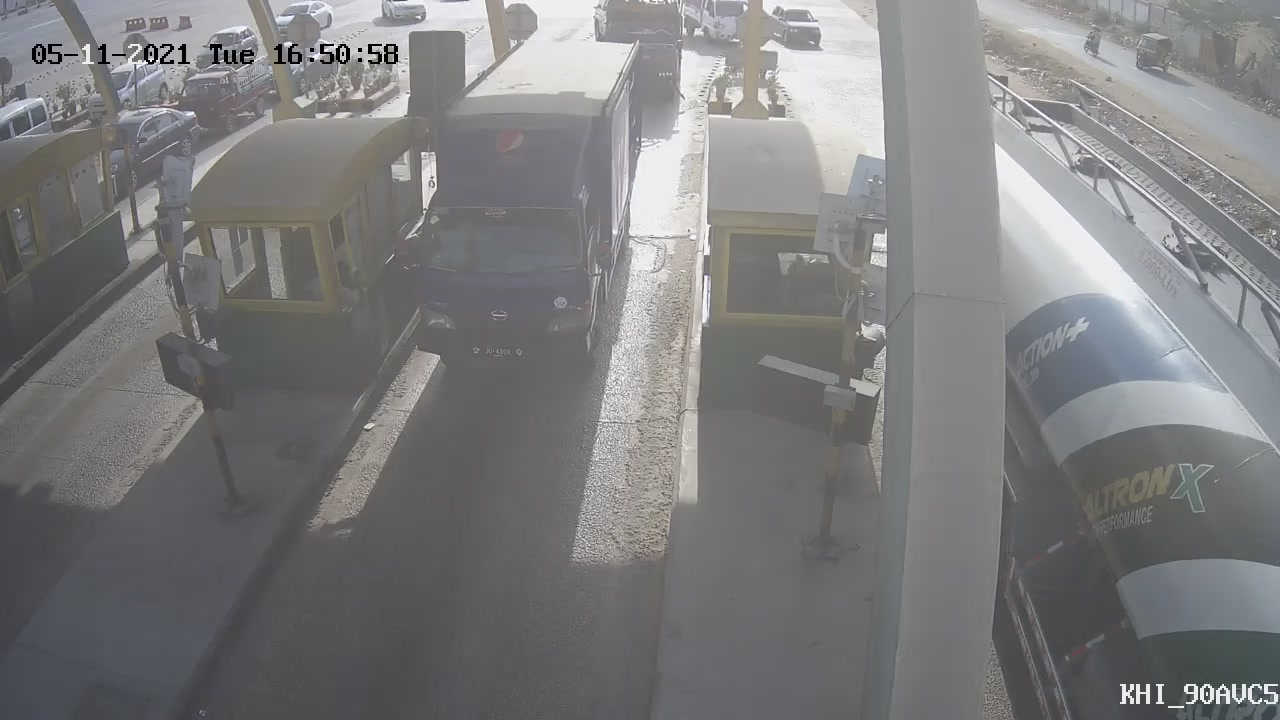F5: (372, 21, 665, 396)
